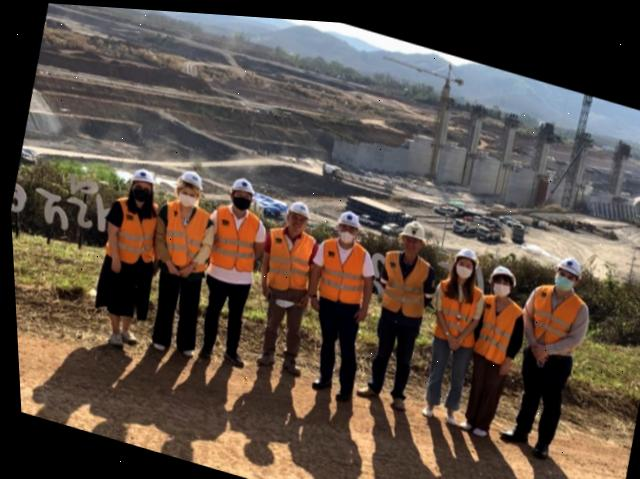helmet: (485, 249, 518, 279), (174, 161, 209, 188), (225, 168, 257, 195), (397, 207, 426, 236), (281, 191, 311, 216), (126, 159, 155, 184), (551, 245, 578, 268), (455, 234, 479, 255), (334, 204, 359, 224)
vest: (96, 190, 165, 271), (370, 239, 435, 317), (307, 224, 368, 307), (200, 196, 260, 277), (518, 270, 580, 346), (465, 283, 526, 359), (425, 267, 483, 342), (259, 215, 317, 290), (155, 192, 208, 271)
